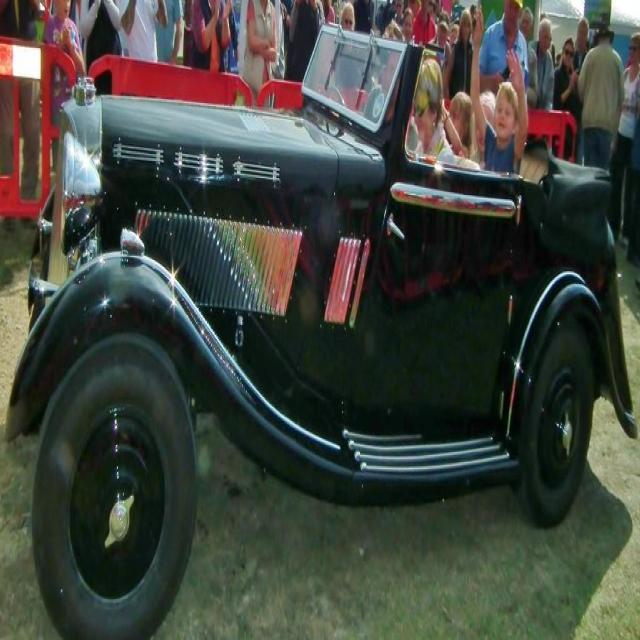car: (9, 27, 636, 637)
